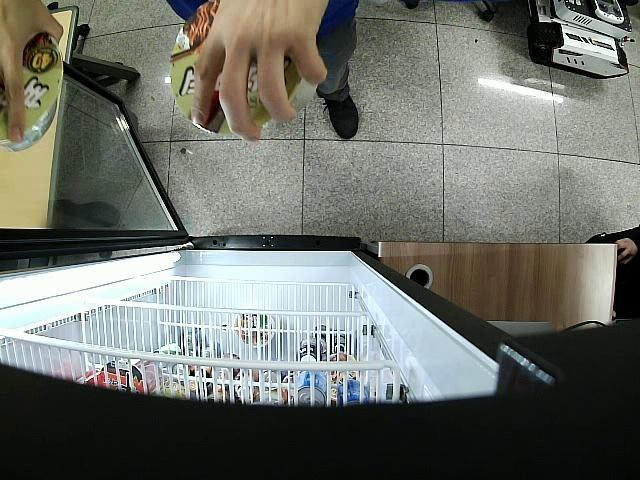03_chapagetti_L: (170, 0, 298, 135), (0, 31, 64, 152)
